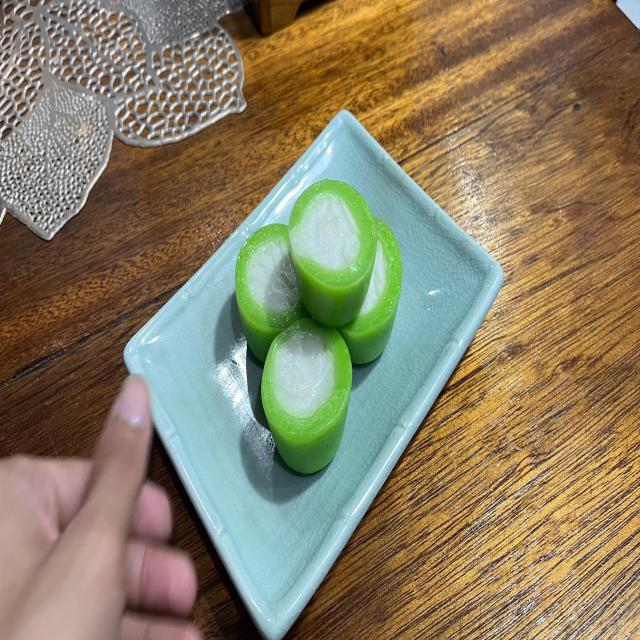nona-manis: (261, 318, 352, 473), (289, 180, 378, 327), (235, 224, 309, 362), (339, 218, 402, 364)
